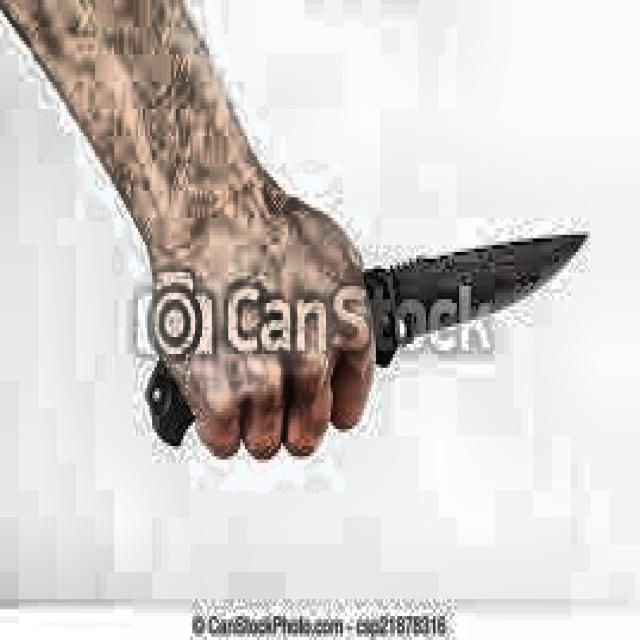knife: (147, 234, 589, 446)
